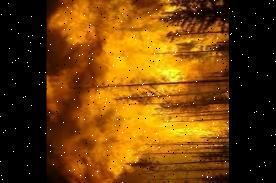fire: (91, 0, 229, 183)
